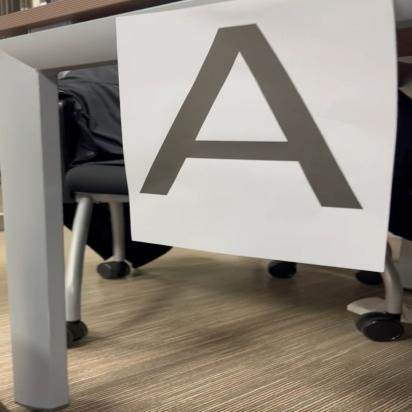seat: (125, 23, 384, 216)
